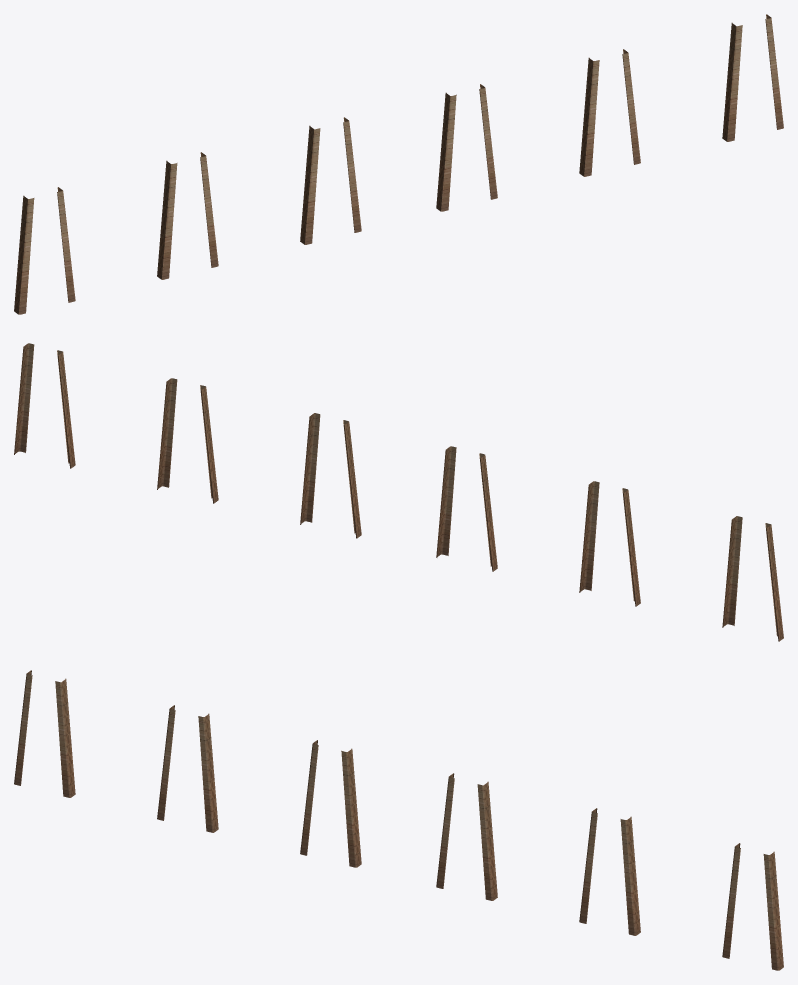
Rendered from Big_colums_02.glb.
3 views of the same model, one above another, from view 1: azimuth 30°, elevation 25°; view 2: azimuth 150°, elevation 25°; view 3: azimuth 330°, elevation 25° (orthographic).
Visible parts, largest first — view 1: Big_colums_02; view 2: Big_colums_02; view 3: Big_colums_02.
Part boxes in pixels (x1,y1,x2,y2): Big_colums_02: (14, 14, 783, 314); Big_colums_02: (14, 343, 783, 641); Big_colums_02: (14, 670, 783, 970).
Size of the model in its own units: 141 by 19.73 by 2.13.
Materials: 1 (1 with a texture image).
